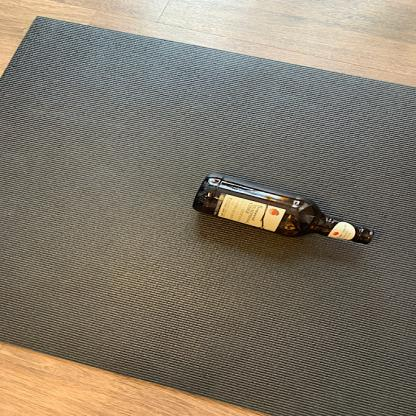trash: (192, 170, 381, 252)
